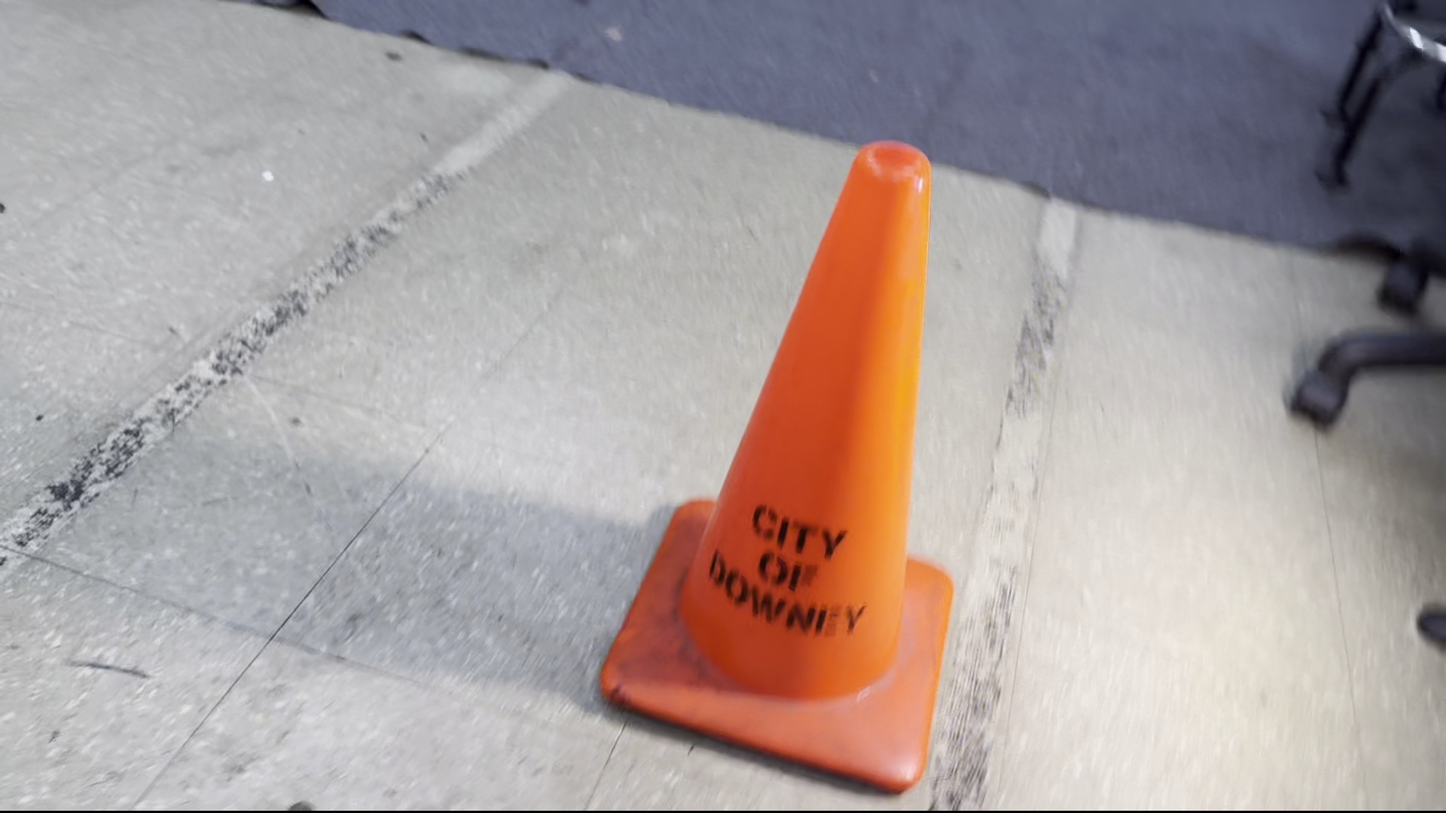traffic_cone: (598, 138, 955, 795)
